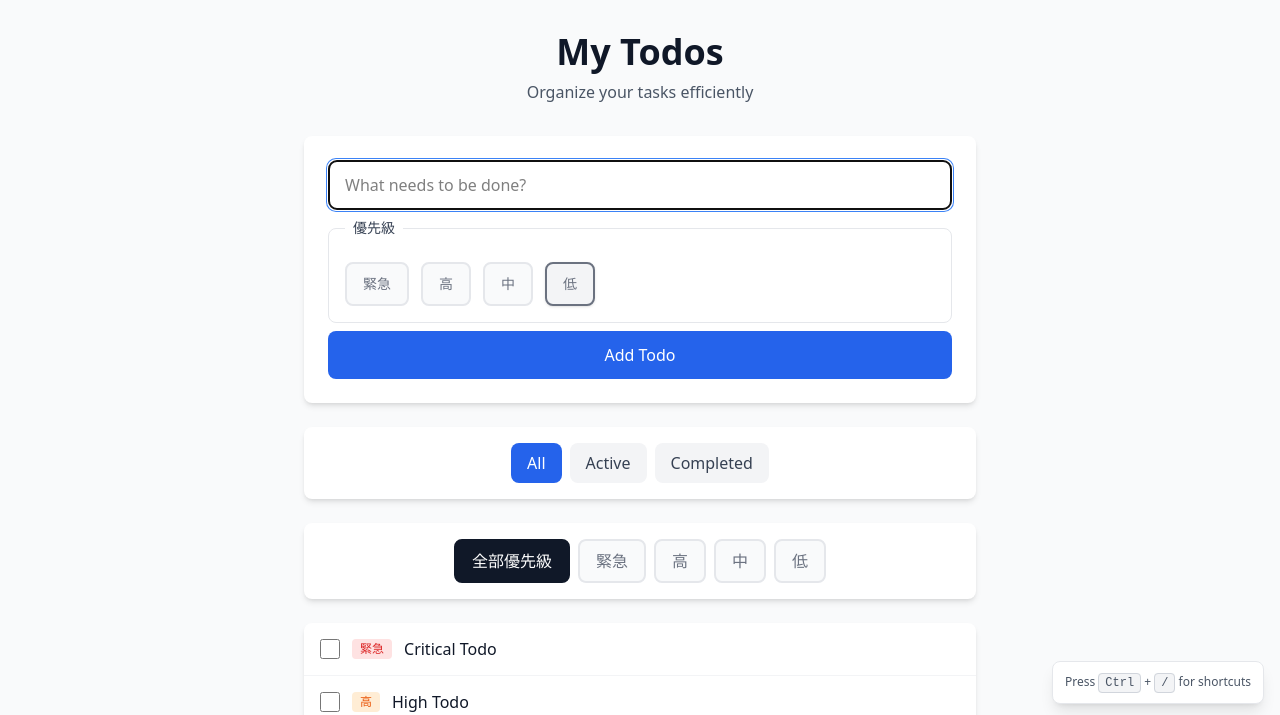
TodoList › Priority Filter Functionality (CR-002) › should filter todos by HIGH priority
Click the button "高": (680, 561) [654,539,706,583]
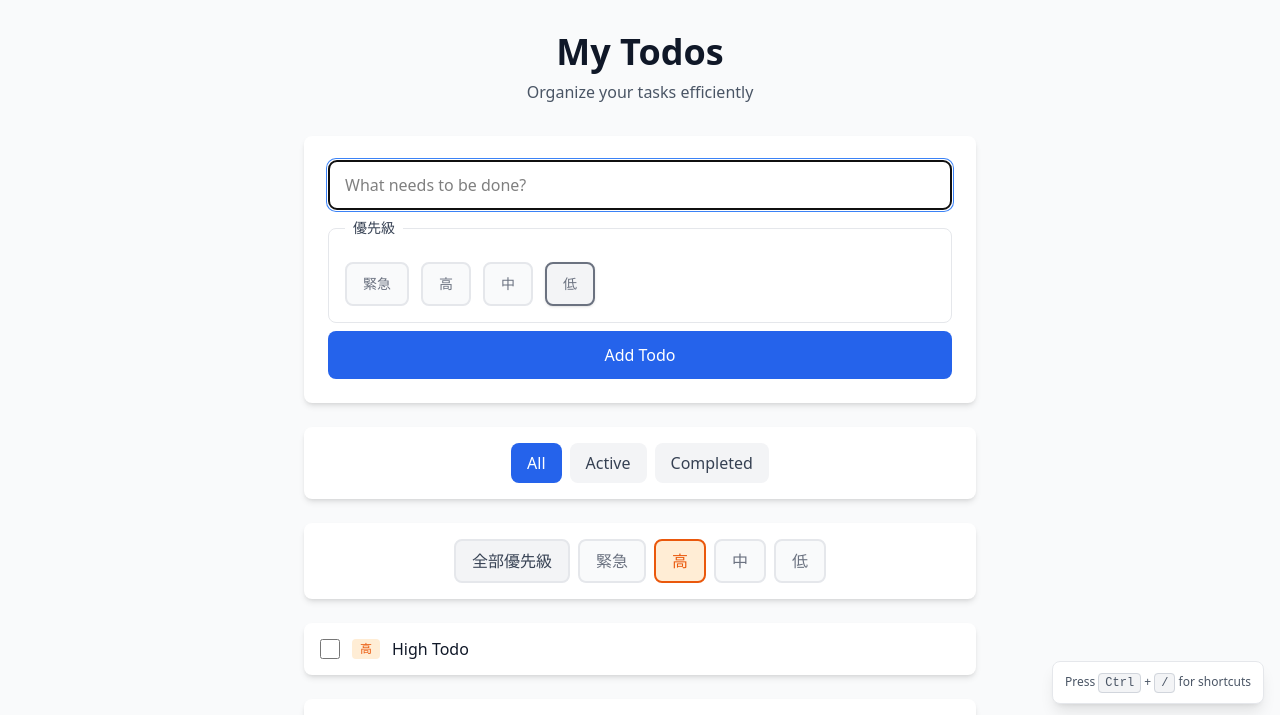
Check: the button "High Todo" is shown, box [392,638,469,660]
Check: the button "Critical Todo" is gone
